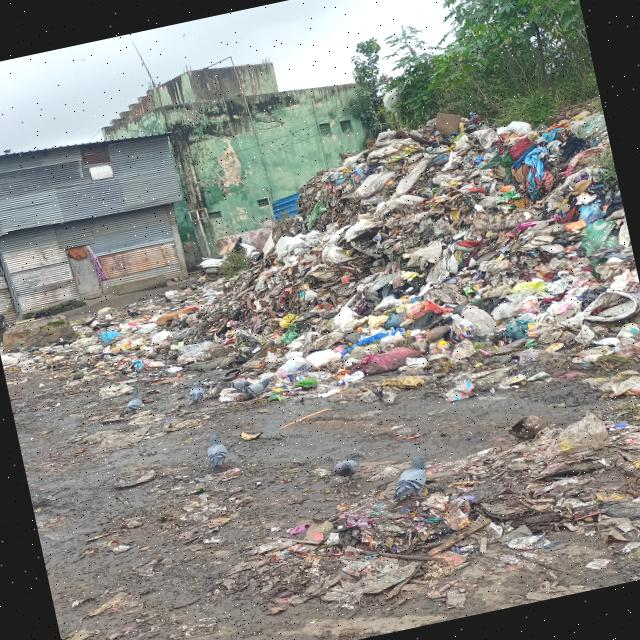garbage: (213, 98, 640, 435), (264, 403, 640, 620), (70, 280, 248, 427)
